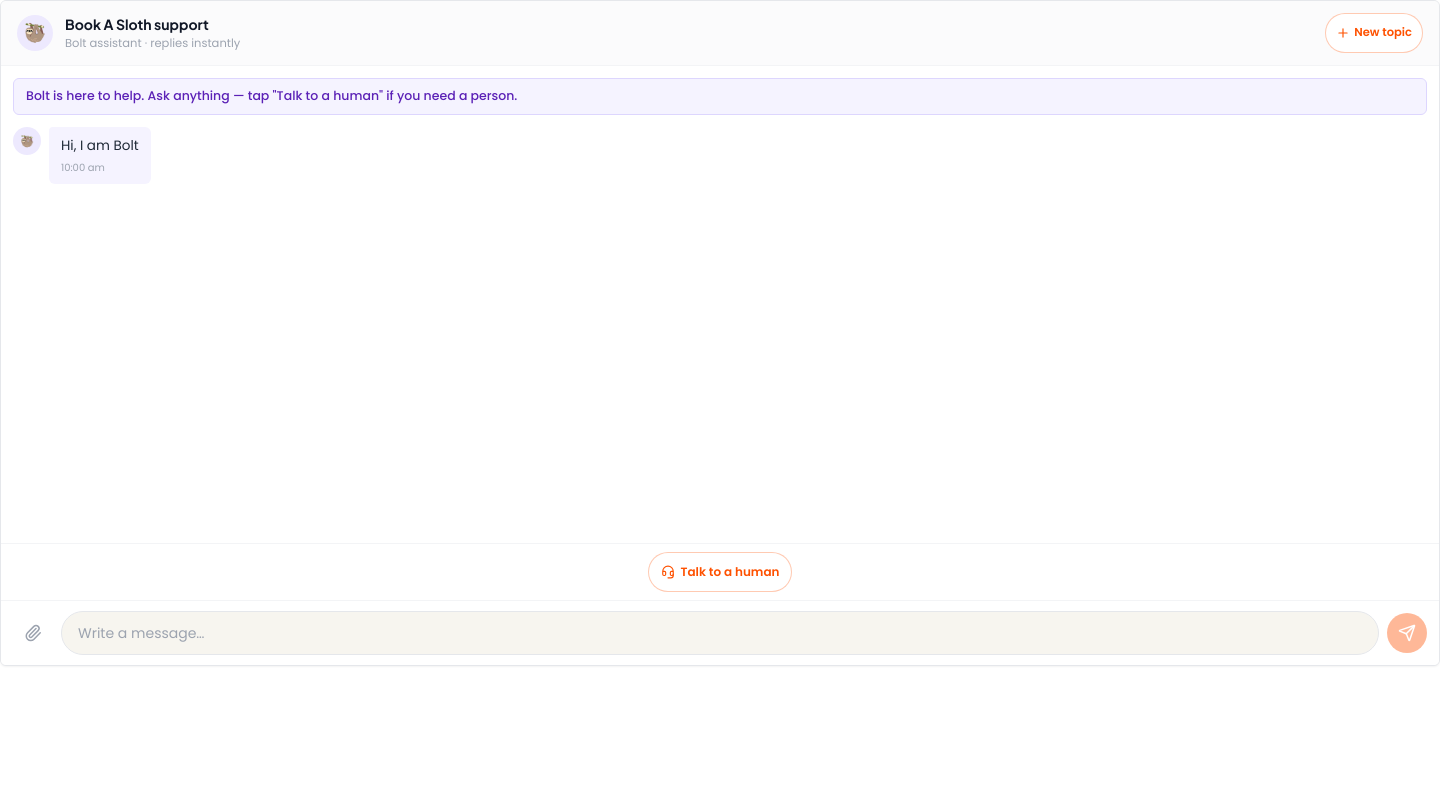
Test: SupportChat › sends a message and appends it
The image size is (1440, 810).
Expected: the text "Hi, I am Bolt" is shown, [61, 135, 139, 156]
Type "my payout is late" into the field labelled "message" at (720, 633), box [61, 611, 1379, 655]
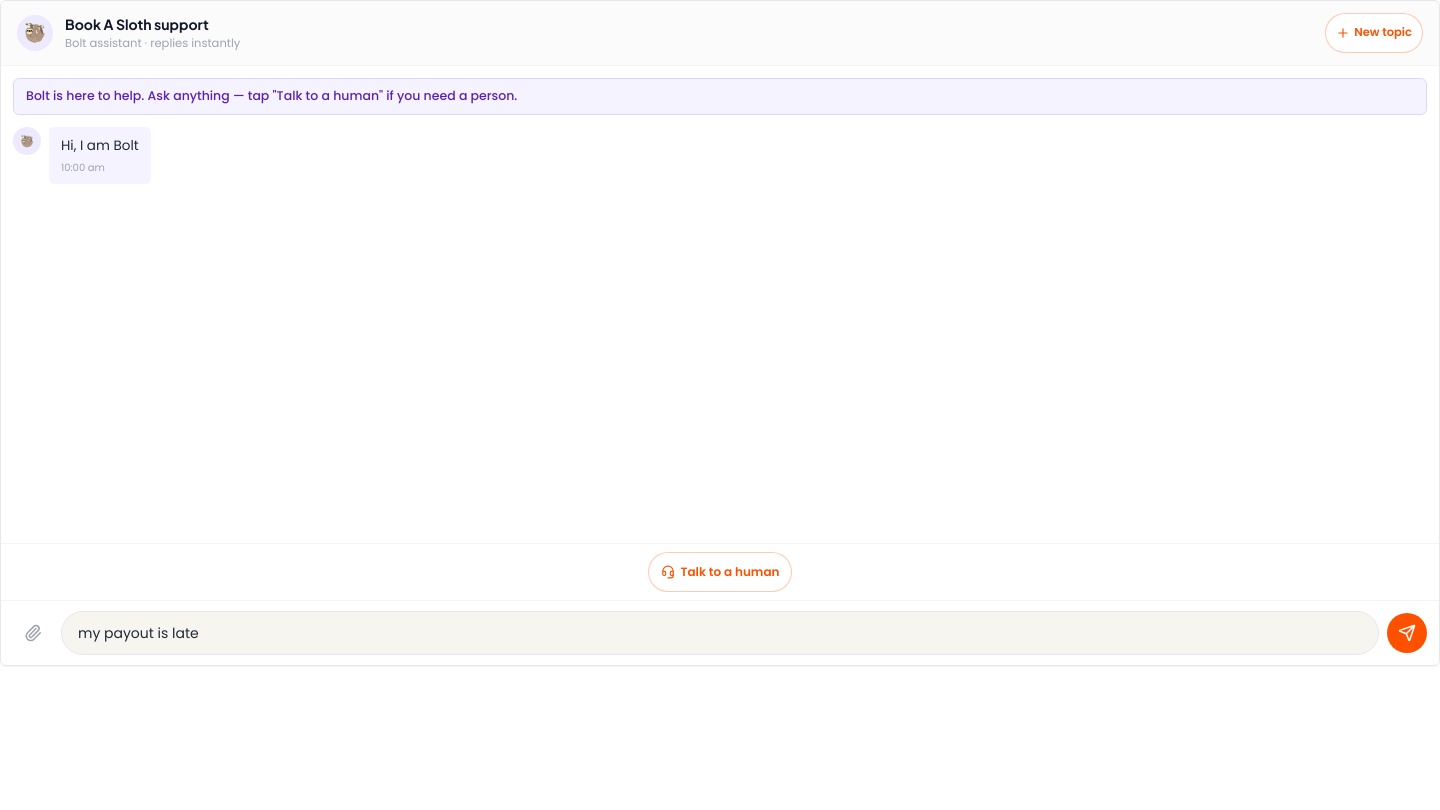
Click the button named "Send" at (1407, 633), box [1387, 613, 1427, 653]
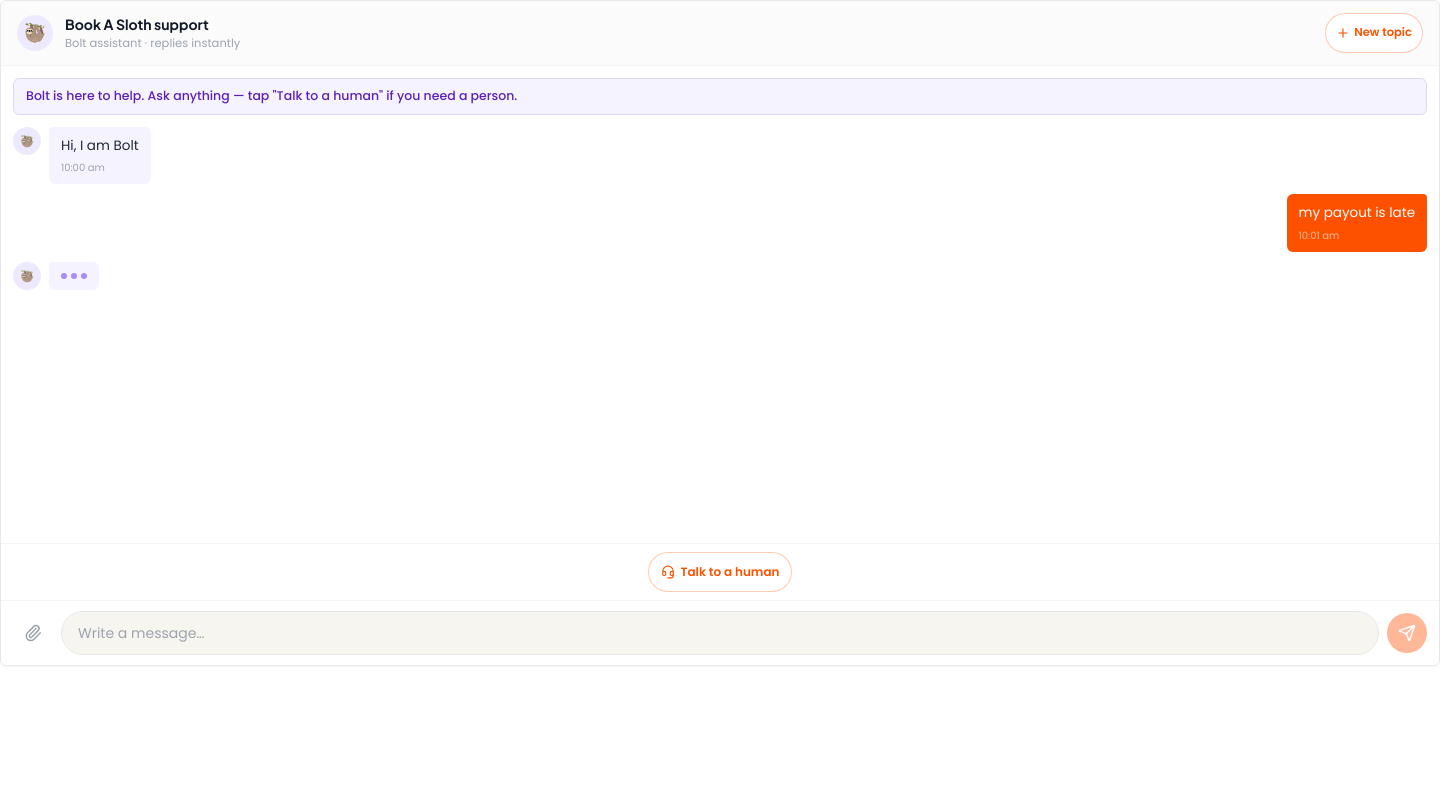
Result: the text "my payout is late" is shown at [1298, 202, 1415, 224]
